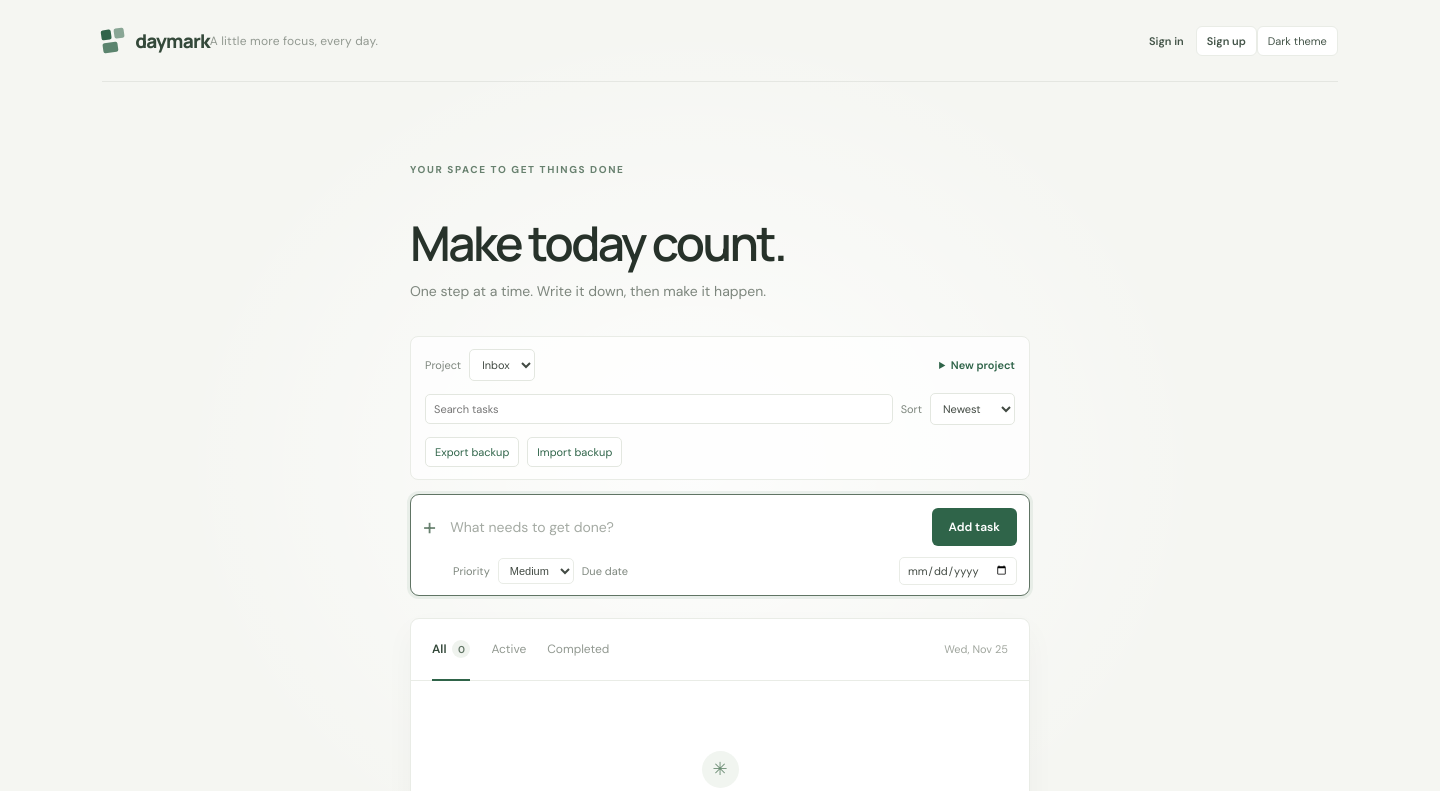
Scenario: adds, completes, filters, and clears a task
Type "Write release notes" into the field named "Add a task" at {"x": 684, "y": 527}, box x1=448 y1=517 x2=920 y2=537
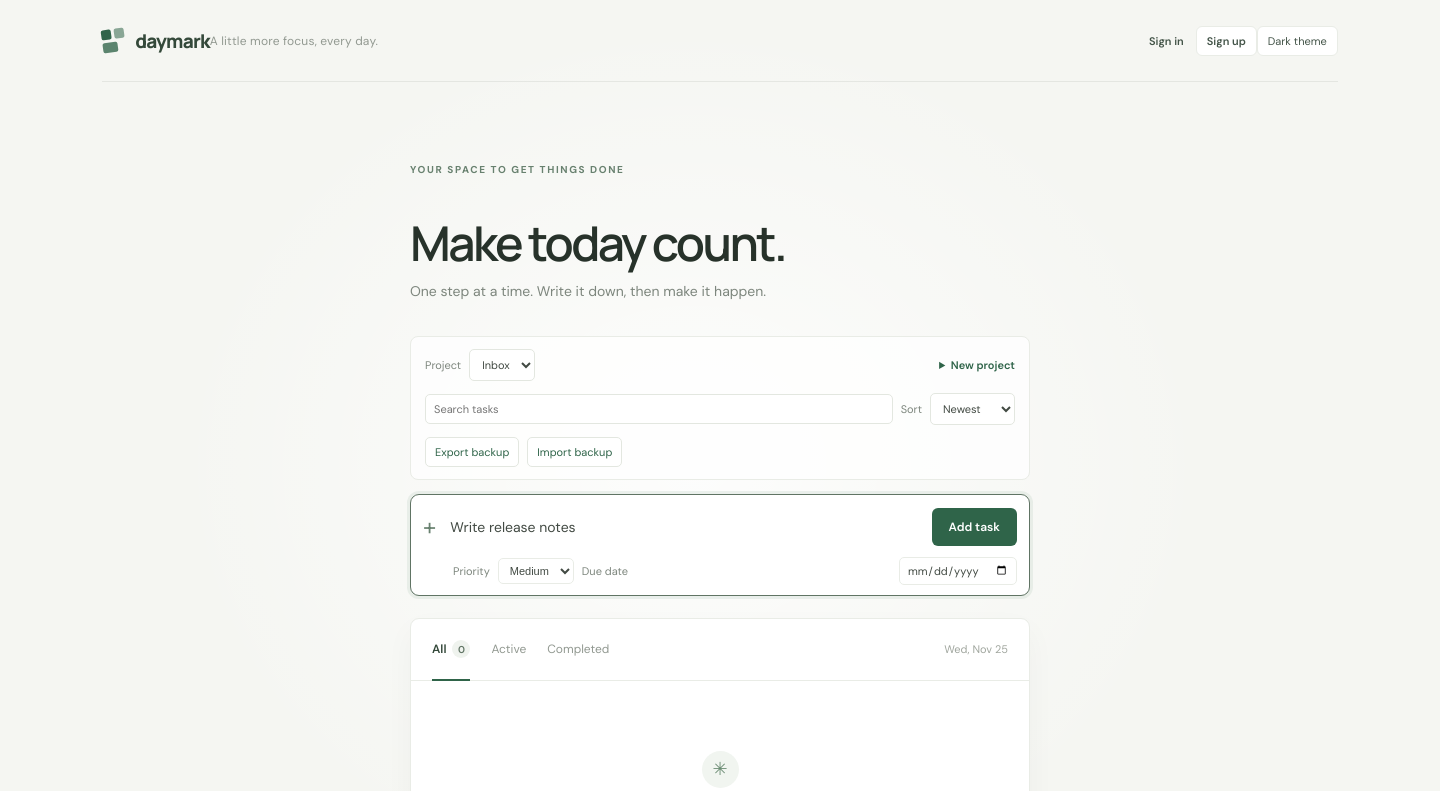
Click the button "Add task" at {"x": 974, "y": 527}, box x1=932 y1=508 x2=1017 y2=546
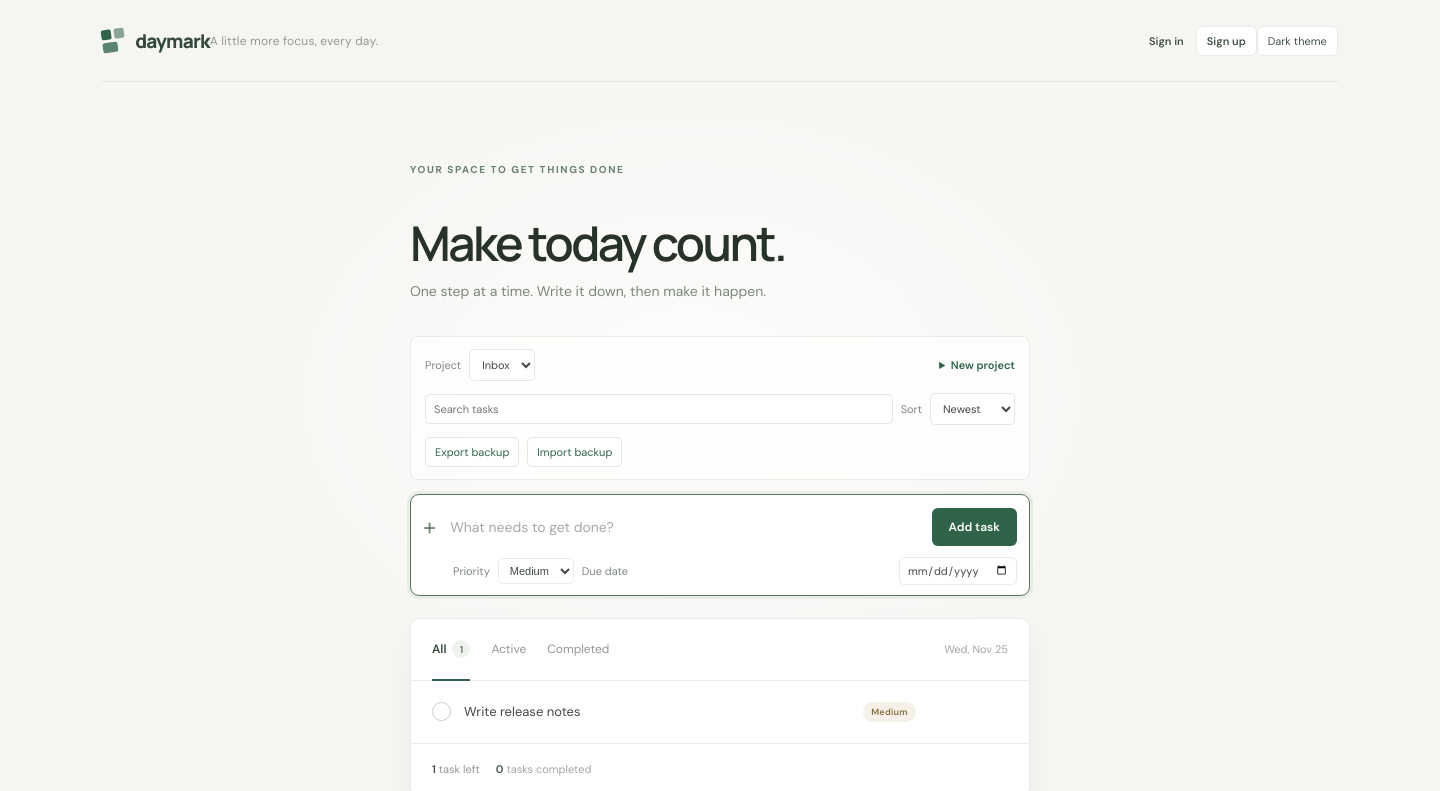
Check: the text "Write release notes" is shown, box x1=464 y1=703 x2=580 y2=720
Check: the text "Medium" is shown, box x1=863 y1=702 x2=916 y2=722
Click the button named "Complete Write release notes" at {"x": 442, "y": 712}, box x1=432 y1=702 x2=451 y2=721
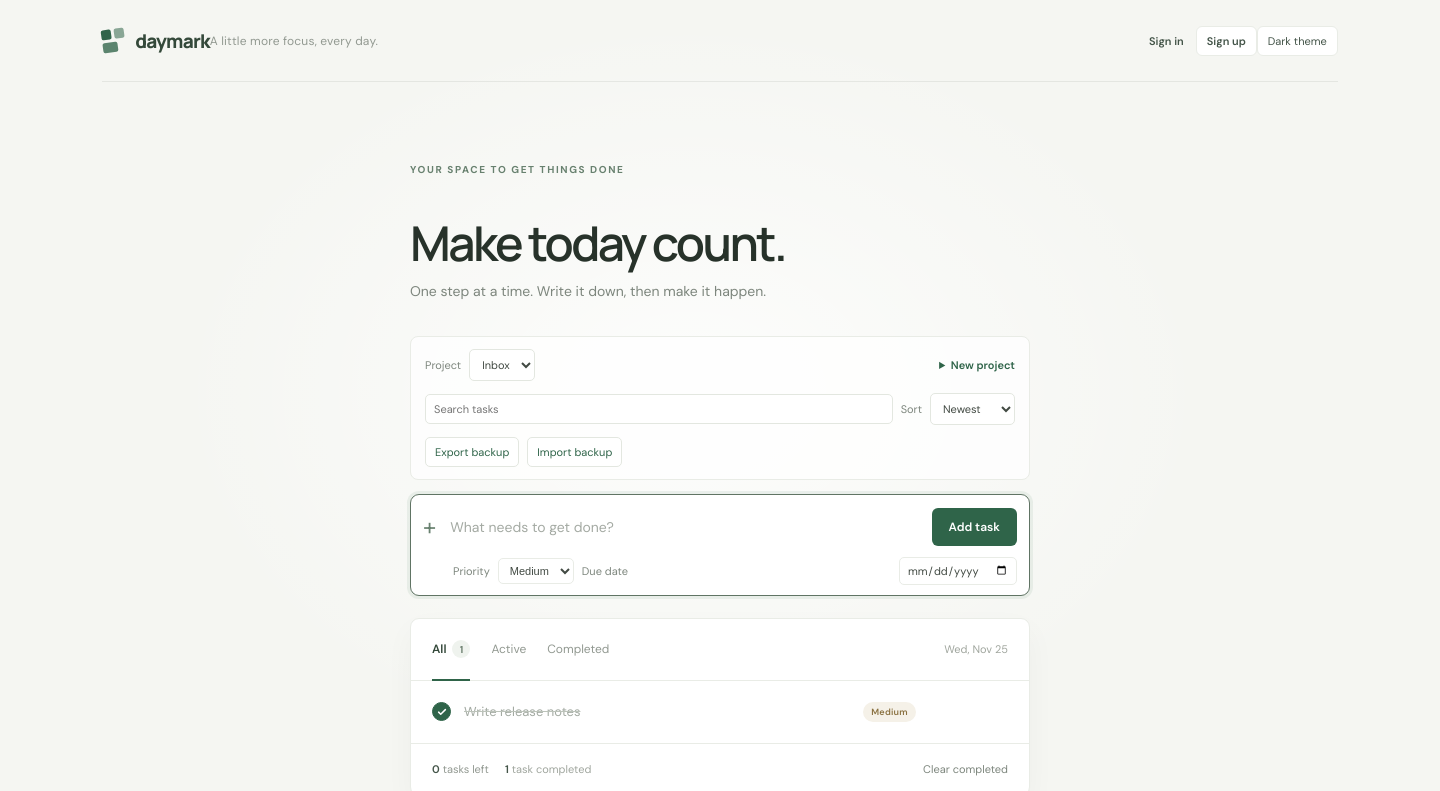
Check: the text "0" is shown, box x1=432 y1=762 x2=440 y2=776
Check: the text "1" next to "left" is shown, box x1=505 y1=762 x2=509 y2=776
Click the button "Active" at {"x": 509, "y": 649}, box x1=492 y1=619 x2=526 y2=680
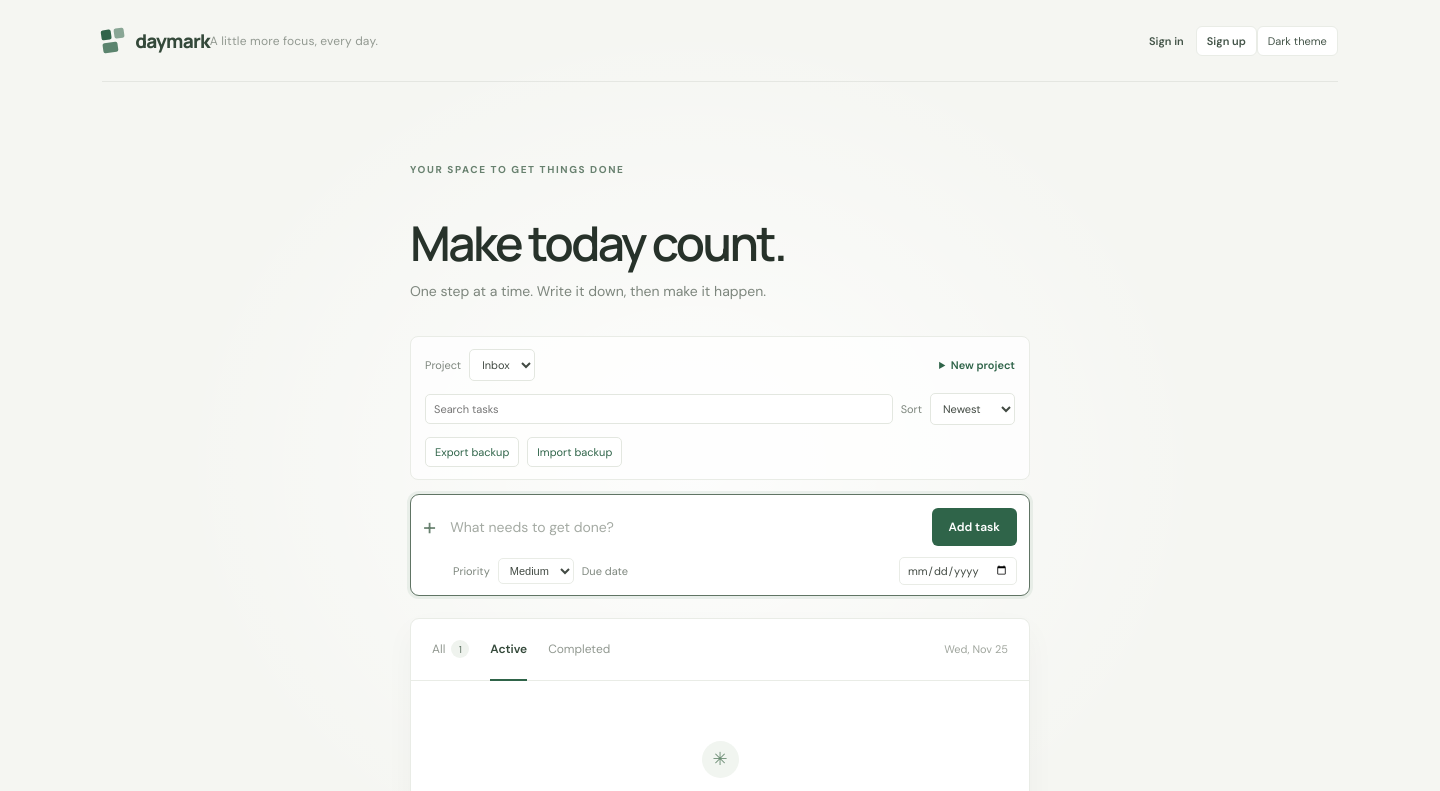
Check: the text "Write release notes" is gone
Click the button "Completed" at {"x": 579, "y": 649}, box x1=548 y1=619 x2=610 y2=680
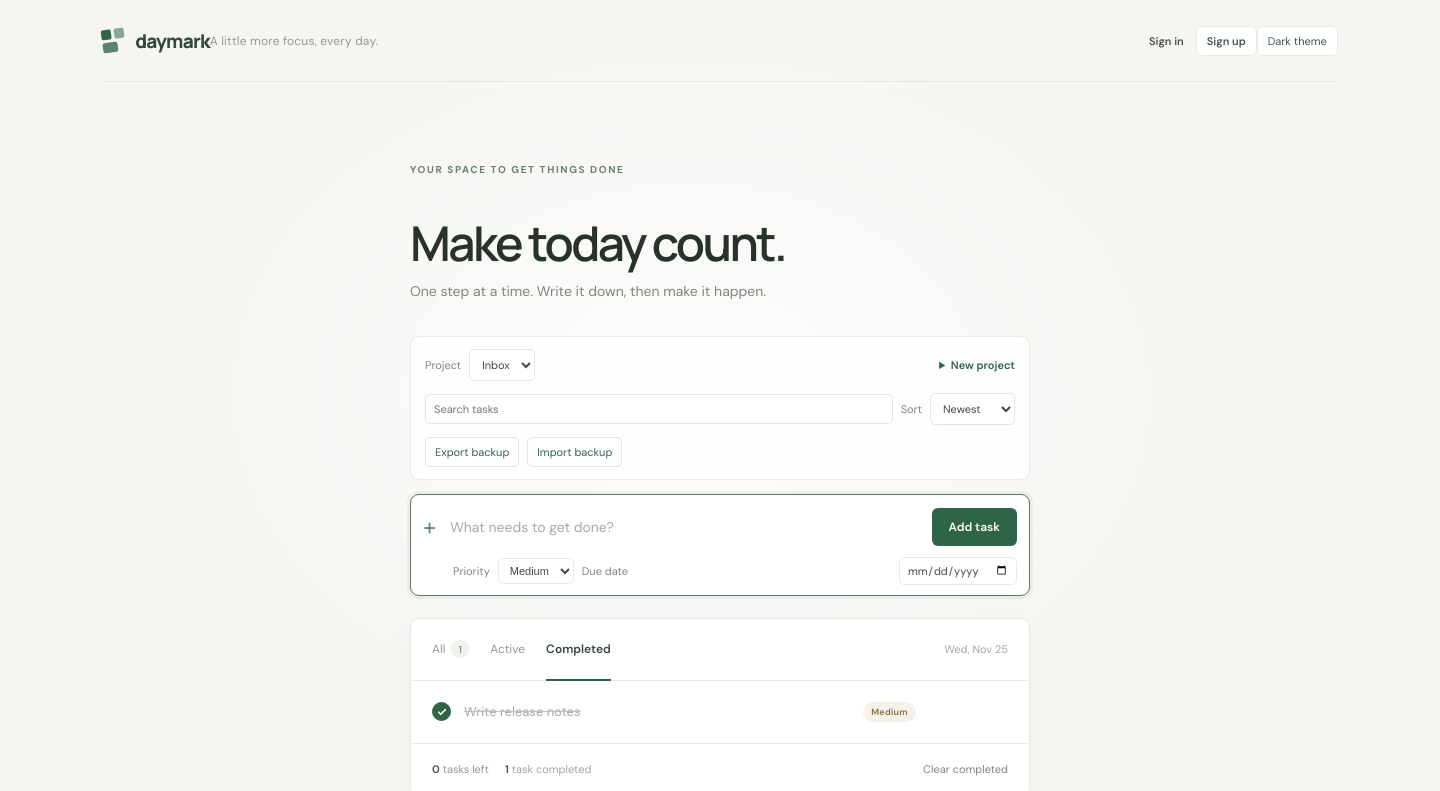
Check: the text "Write release notes" is shown, box x1=464 y1=703 x2=580 y2=720
Click the button "Clear completed" at {"x": 962, "y": 769}, box x1=915 y1=756 x2=1008 y2=782
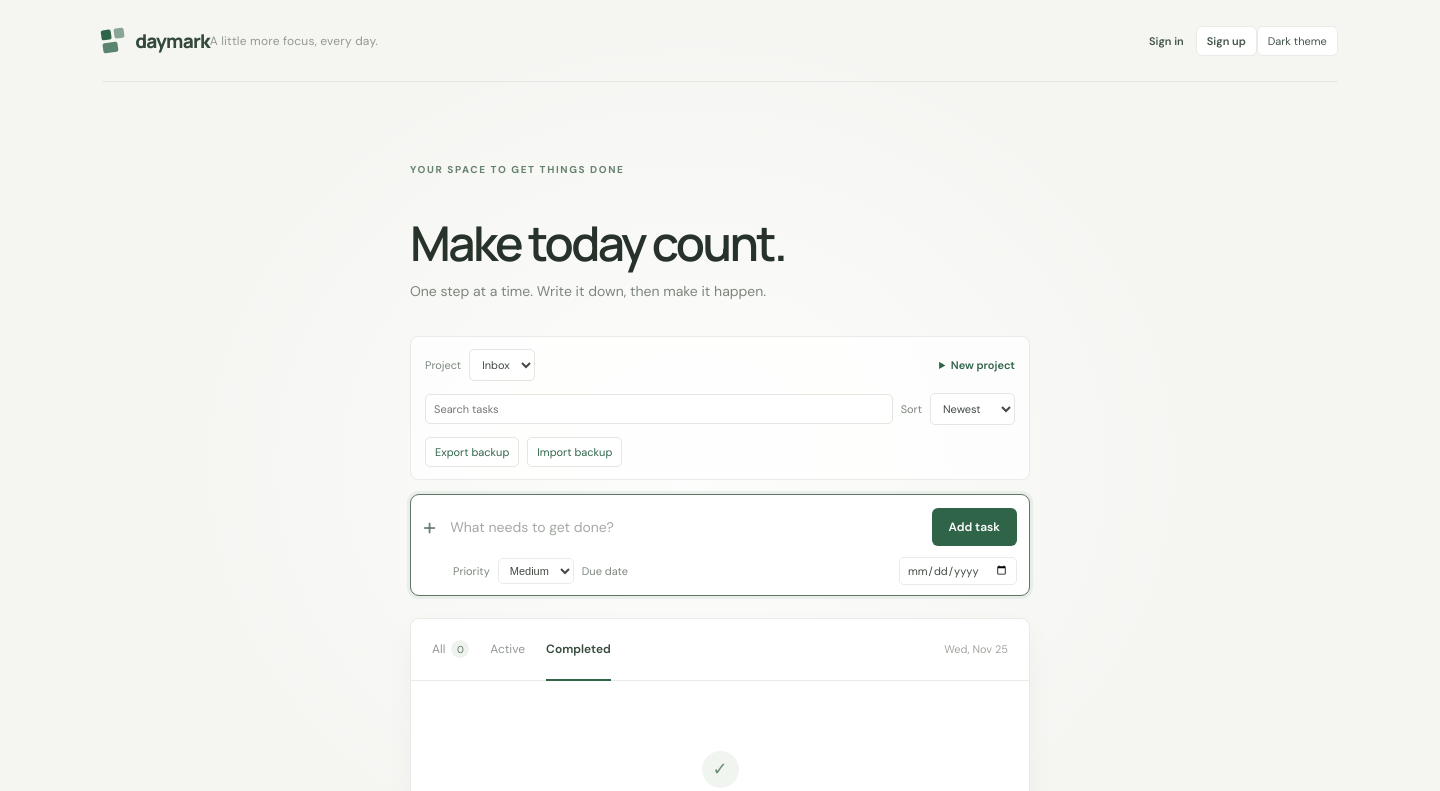
Check: the text "Write release notes" is gone
